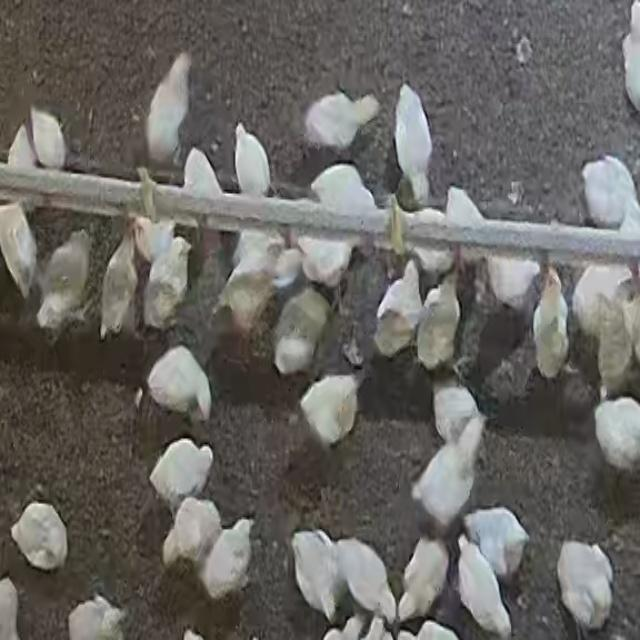chicken: (410, 410, 486, 532), (572, 263, 636, 393), (217, 229, 282, 344), (390, 79, 442, 209), (34, 230, 92, 336), (452, 535, 512, 637), (555, 540, 615, 635), (302, 84, 382, 154), (145, 346, 213, 426), (146, 52, 192, 170), (334, 538, 394, 624), (374, 260, 425, 361), (202, 518, 261, 604), (142, 232, 192, 333), (298, 372, 361, 452), (99, 220, 141, 340), (462, 507, 528, 582), (416, 267, 462, 372), (162, 496, 223, 574), (397, 537, 451, 624), (148, 438, 214, 509), (580, 155, 640, 232), (291, 529, 340, 622), (531, 265, 569, 382), (10, 500, 69, 573), (0, 202, 41, 304), (231, 115, 277, 199), (431, 378, 483, 451), (68, 592, 126, 640), (28, 104, 67, 170)
